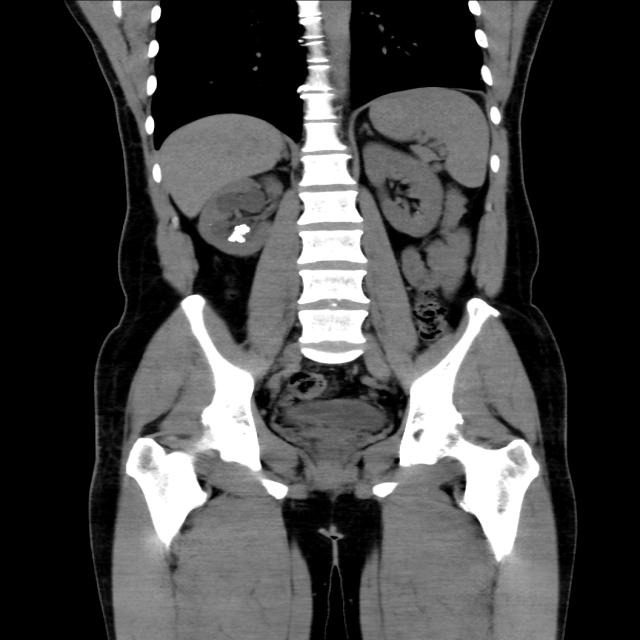kidneystone: (228, 224, 250, 243)
